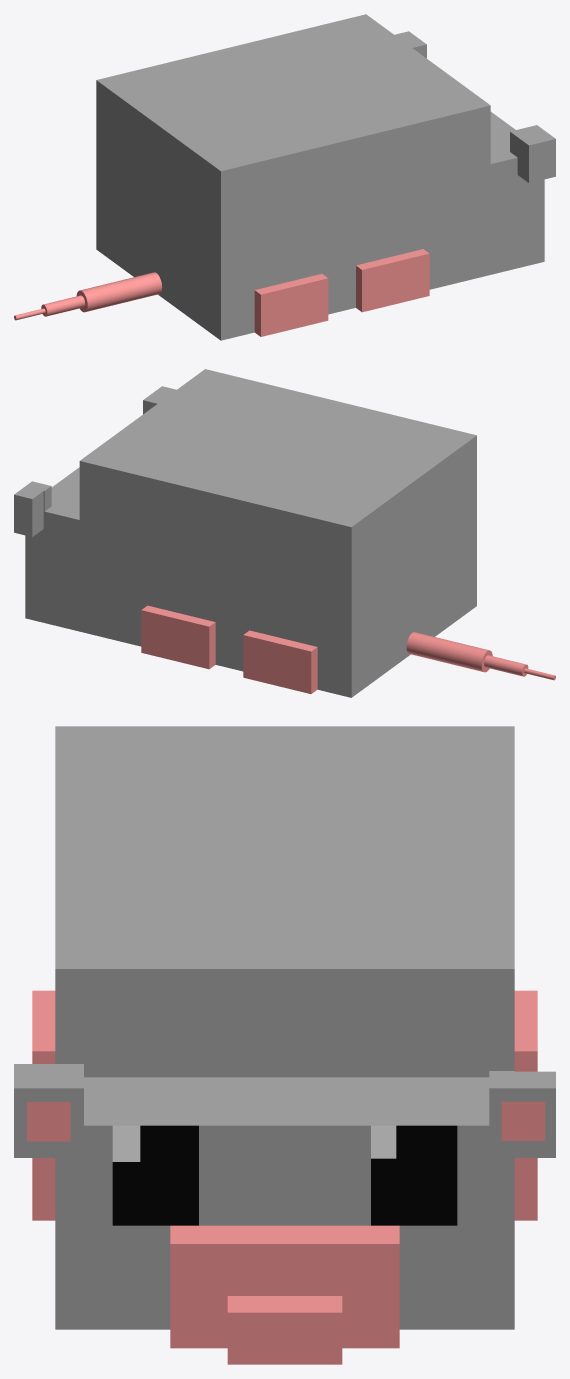
The model's file is rat.dae.
3 renders of one model, top to bottom at view 1: azimuth 30°, elevation 25°; view 2: azimuth 150°, elevation 25°; view 3: azimuth 270°, elevation 25°, orthographic. The views are drawn at different scales.
Visible parts, largest first — view 1: group_0 (×5); view 2: group_0 (×5); view 3: group_0 (×12).
Boxes of the visible parts, x1,y1,x2,y2 form: group_0 (×5): (41, 14, 555, 340); group_0 (×5): (14, 369, 528, 697); group_0 (×12): (14, 726, 555, 1364).
Bounding box in the file's own units: 184 × 92.91 × 59.06.
